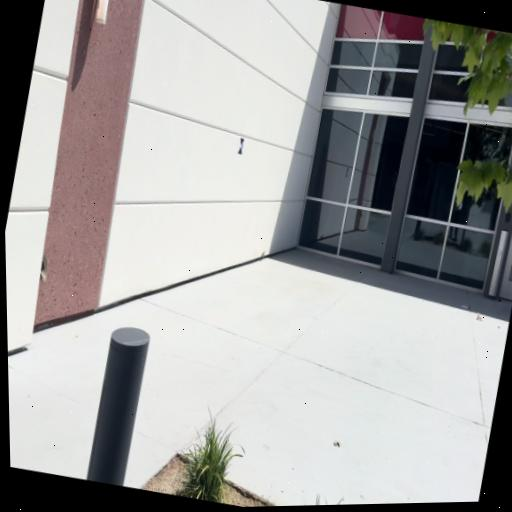target4: (237, 138, 246, 155)
